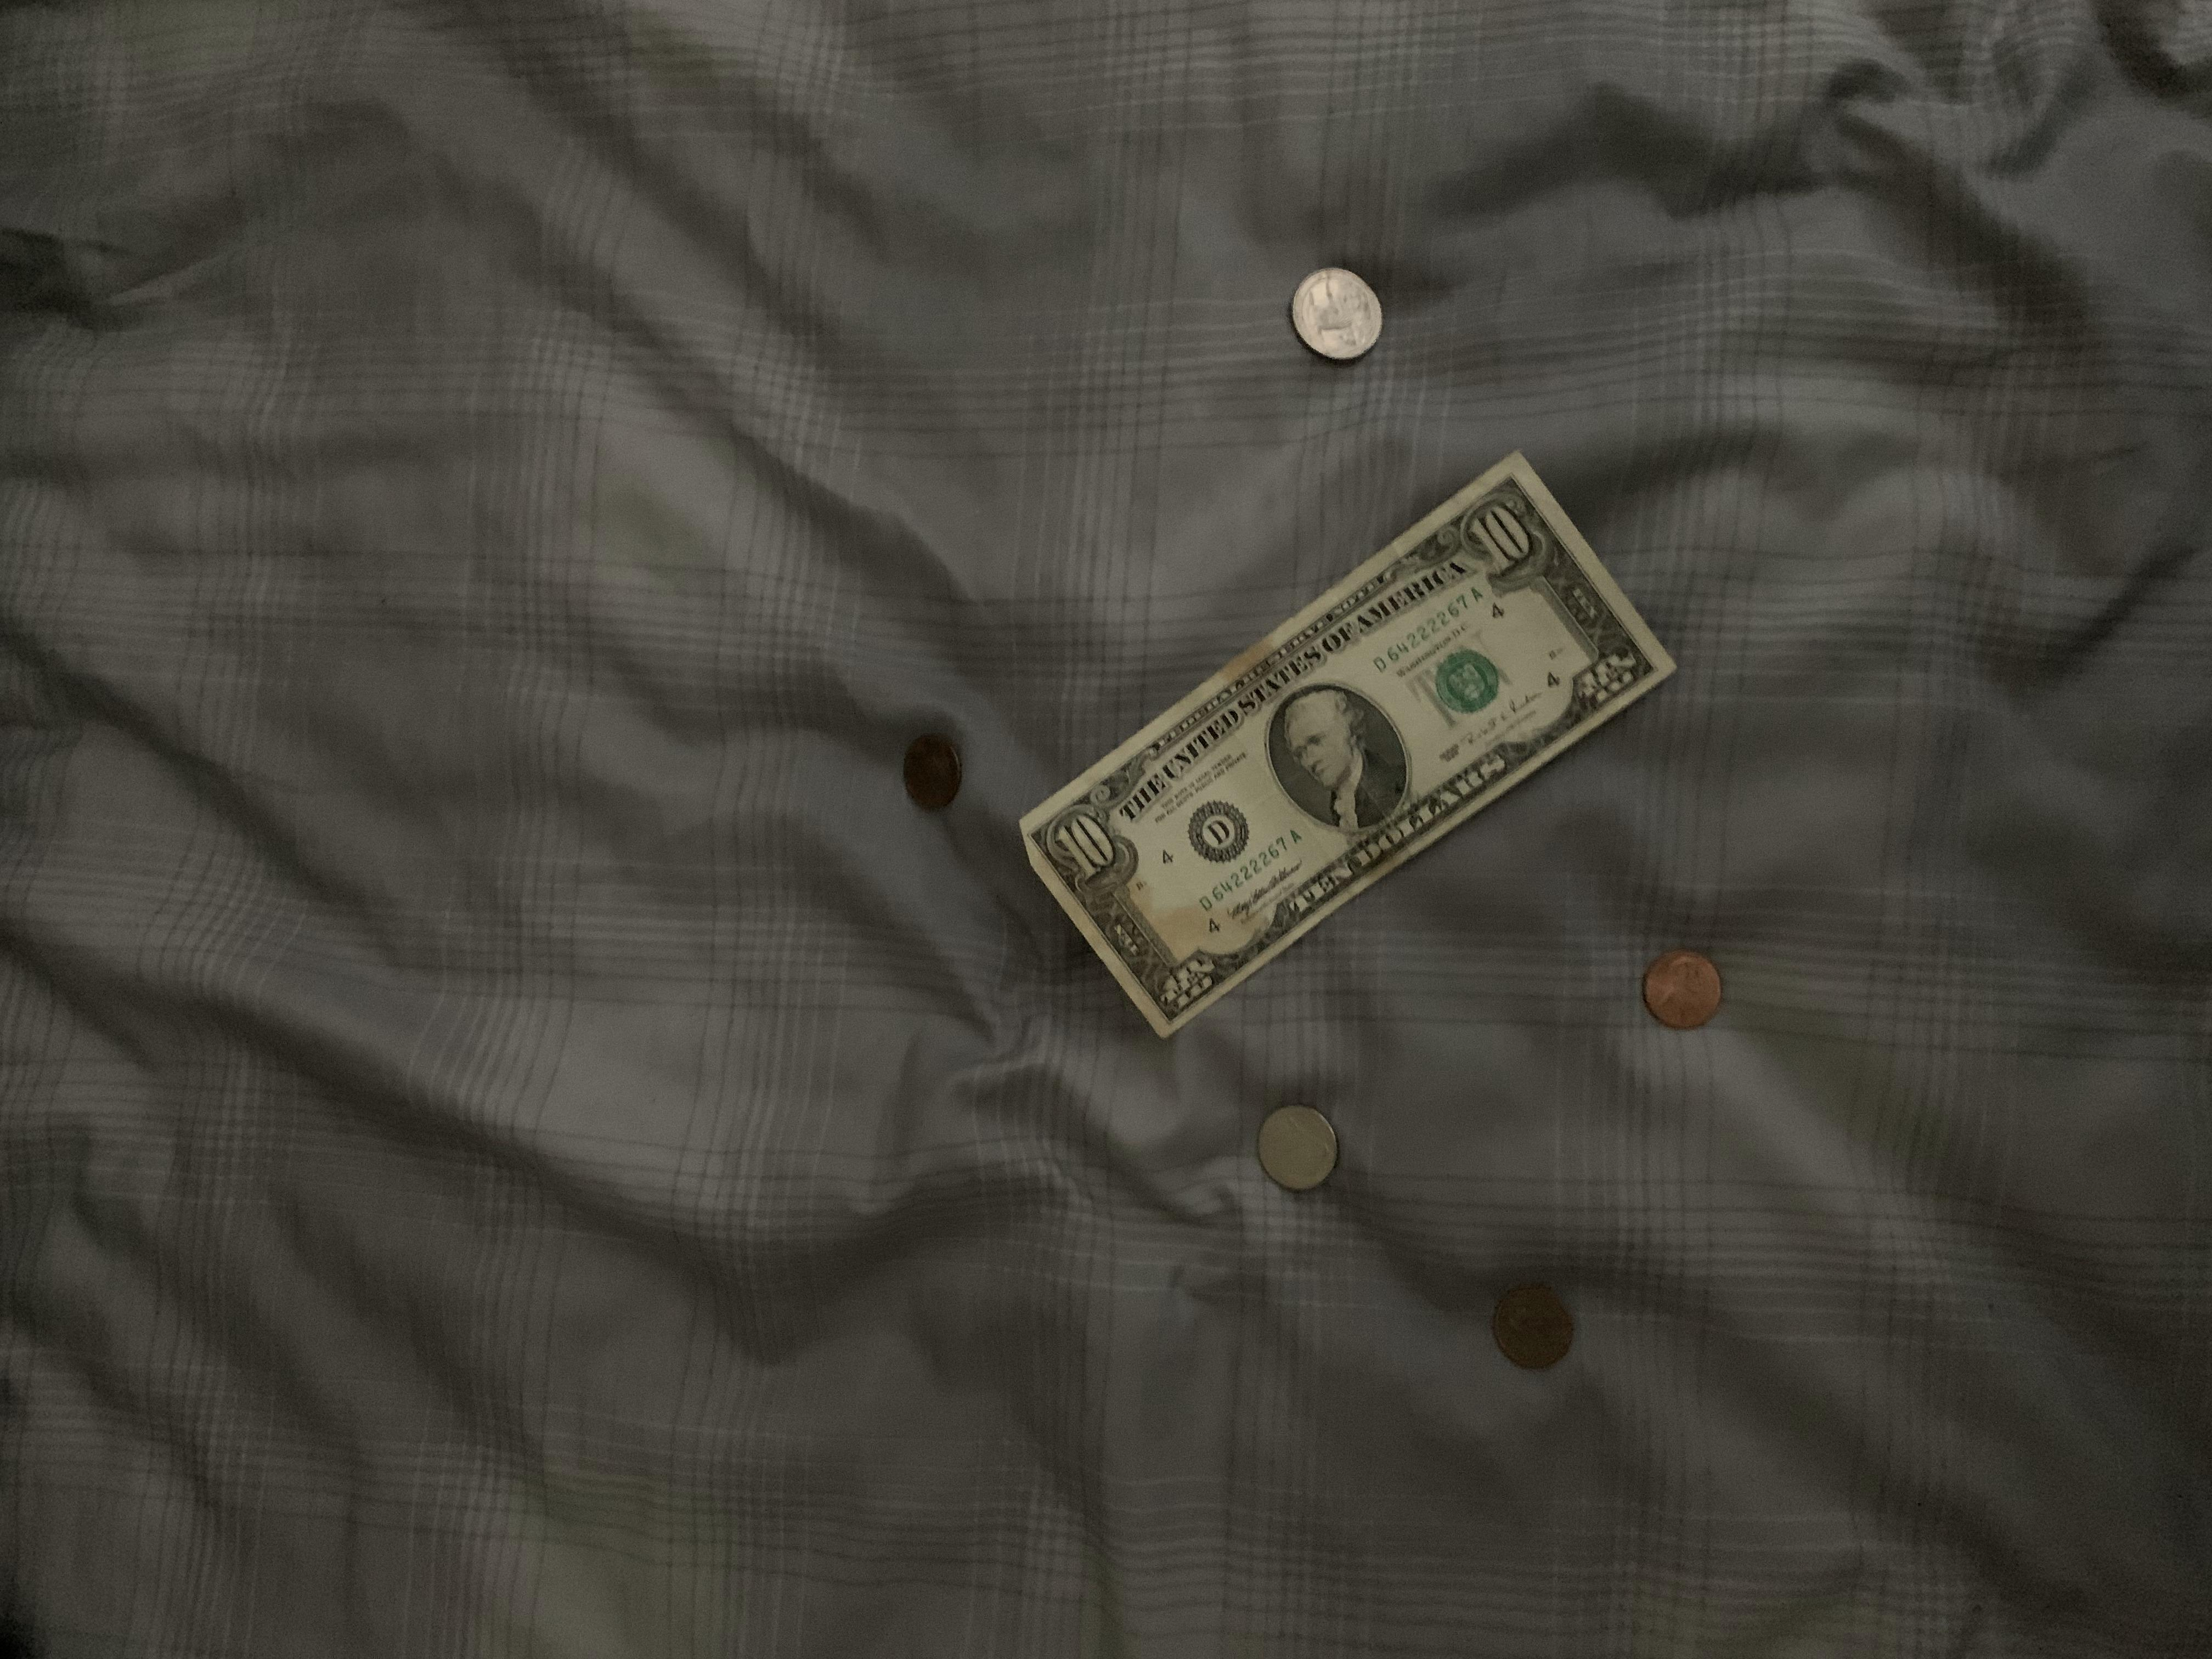Nickel: (1256, 1100, 1343, 1199)
Penny: (1482, 1279, 1576, 1373), (1637, 943, 1728, 1037), (899, 720, 968, 814)
Quarter: (1287, 267, 1385, 364)
TenBill: (1015, 451, 1686, 1044)
